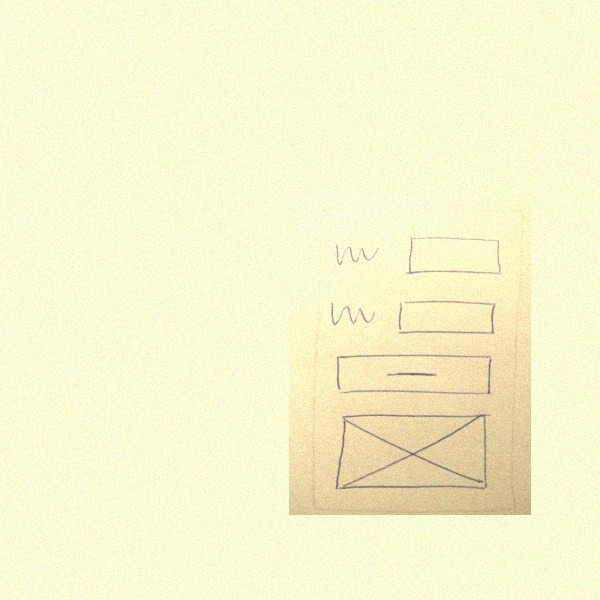button: (328, 350, 495, 400)
image: (329, 410, 495, 498)
text: (330, 236, 384, 272), (326, 298, 378, 331)
text_input: (400, 233, 510, 281), (392, 295, 503, 341)
